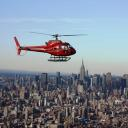helicopter: (14, 29, 90, 64)
